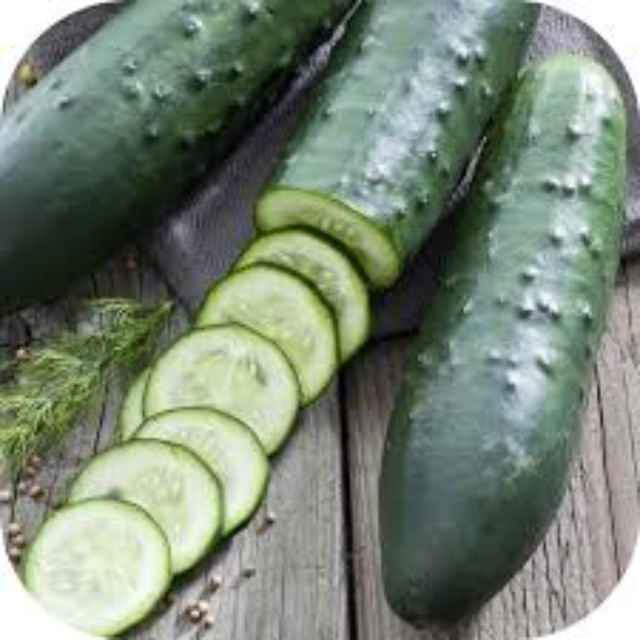dua_leo: (379, 45, 627, 631)
